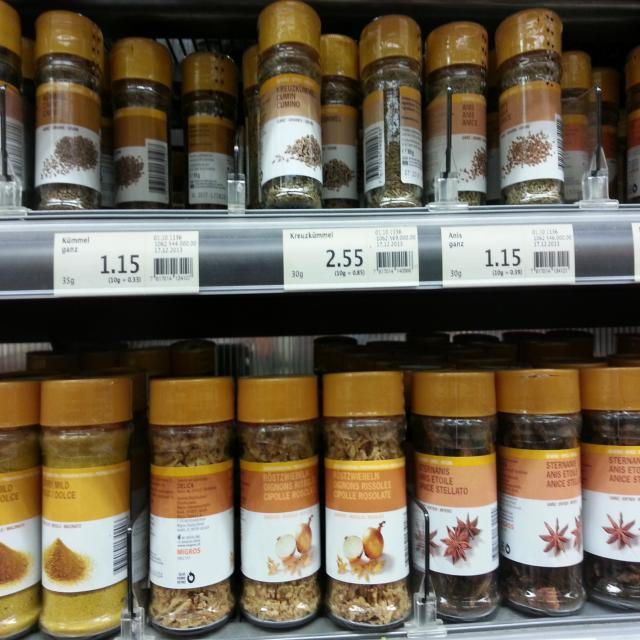Spices: (495, 361, 588, 625), (39, 377, 132, 640), (148, 372, 236, 639), (408, 365, 497, 620), (323, 367, 409, 628), (237, 372, 323, 630), (577, 359, 640, 613), (490, 8, 566, 205), (257, 0, 325, 211), (35, 11, 105, 213), (359, 8, 423, 210), (425, 23, 488, 208), (111, 37, 178, 209), (0, 383, 43, 640), (183, 53, 240, 207)
